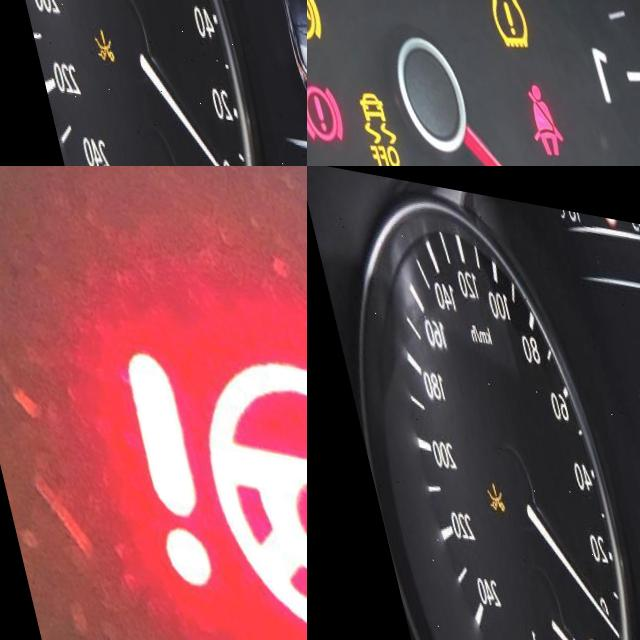Electronic Power Steering: (100, 322, 307, 640)
Seat Belt: (496, 63, 554, 145)
